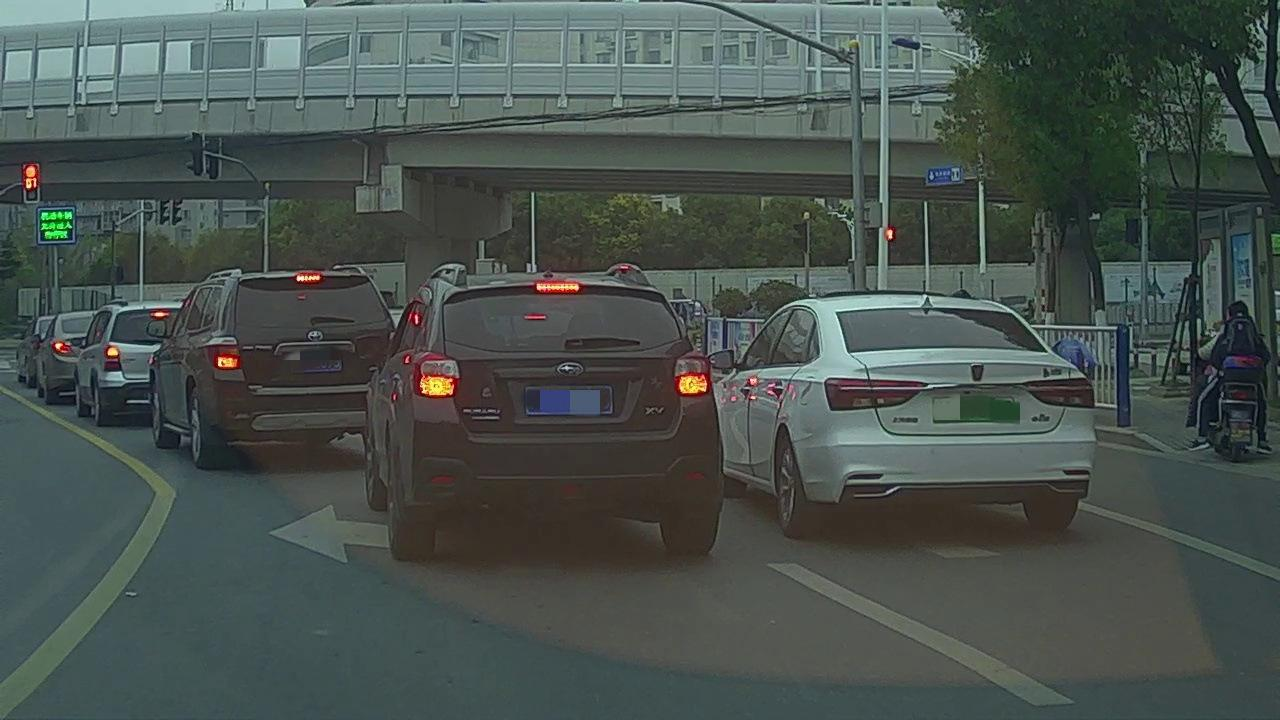traffic_light: (22, 164, 36, 200)
